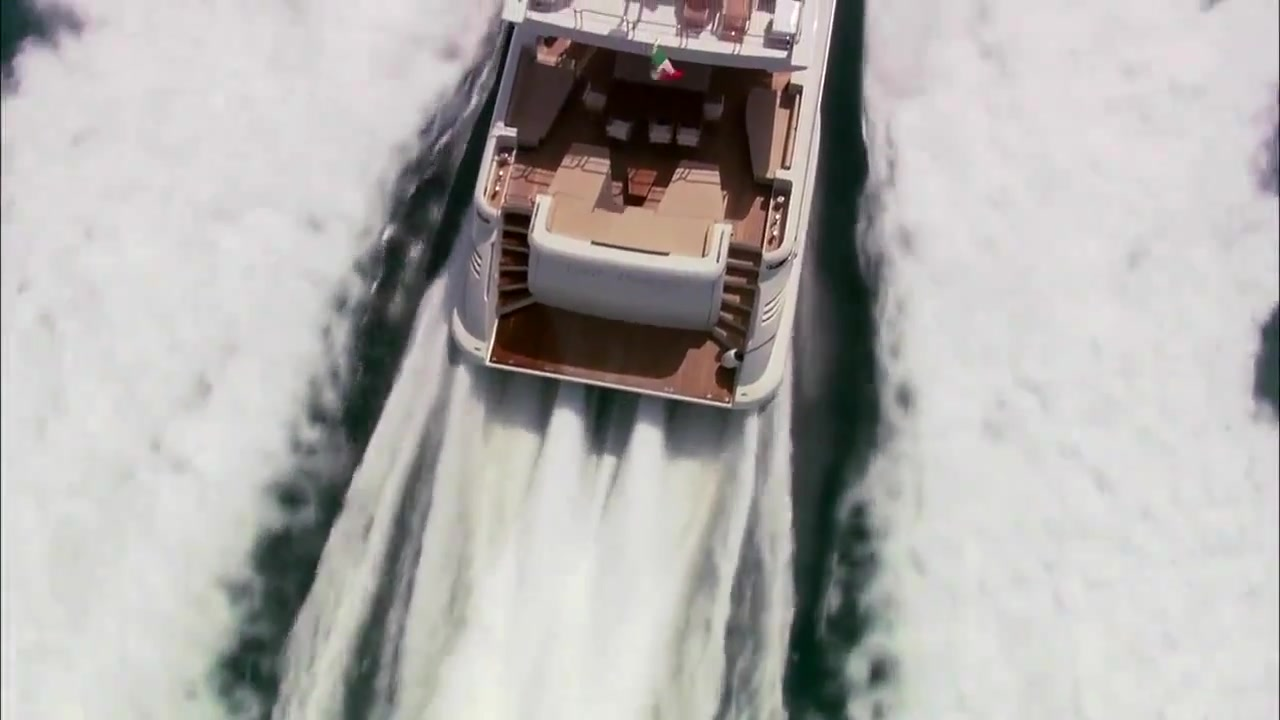boat: (434, 1, 848, 417)
